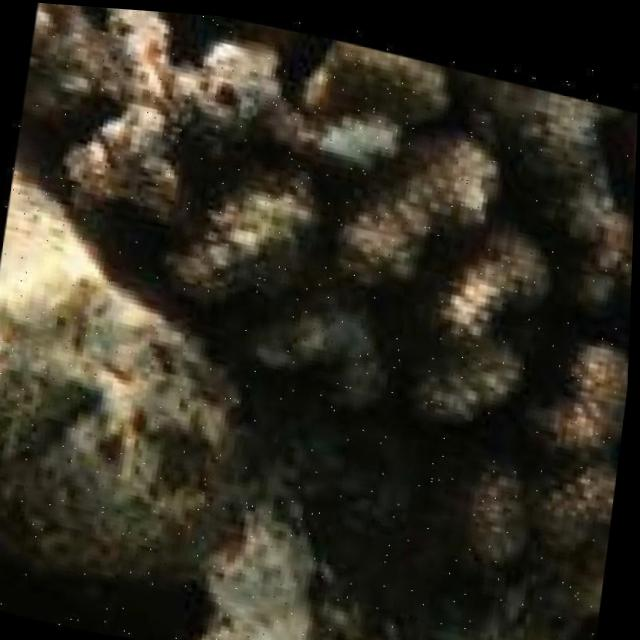Dead Coral: (105, 7, 640, 640)
